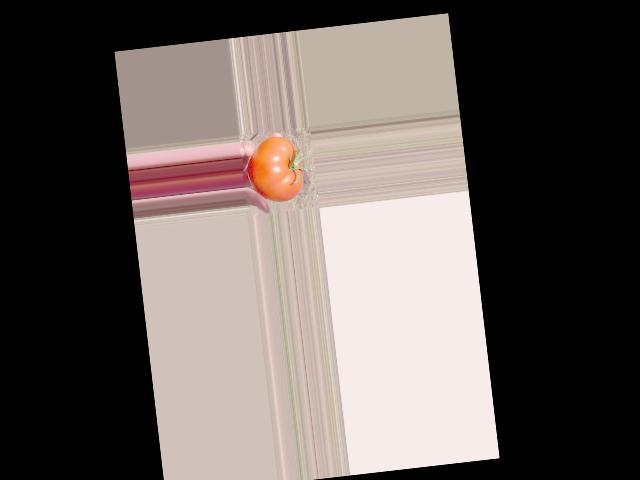tomato: (244, 133, 306, 204)
